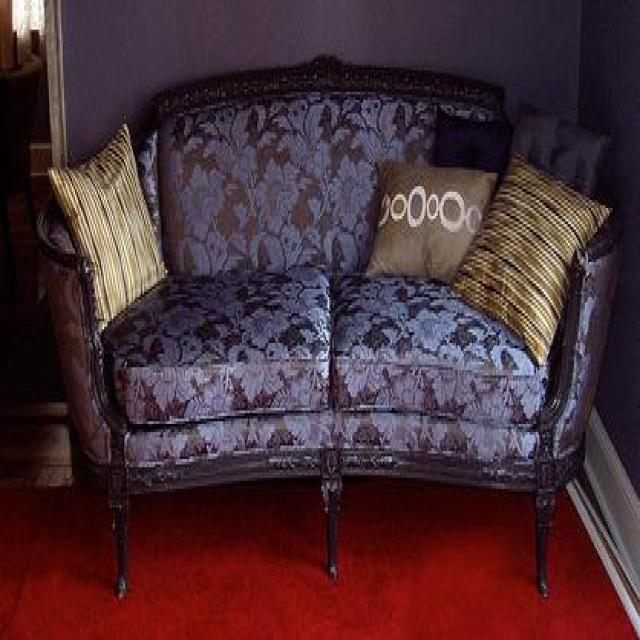sofa: (32, 49, 626, 602)
